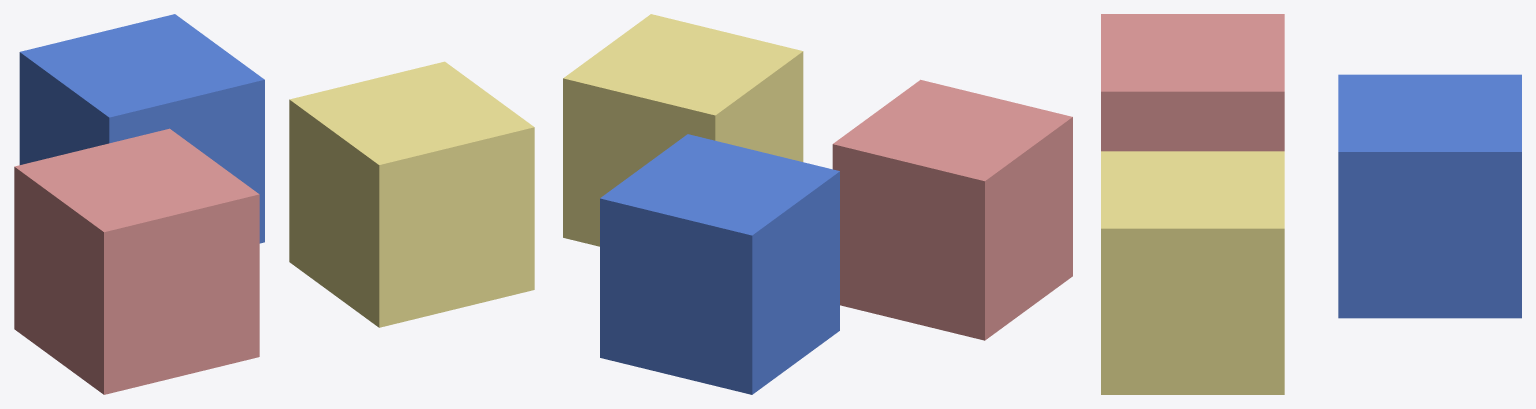
The model's file is wool.gltf.
3 views of the same model, side by side, from view 1: azimuth 30°, elevation 25°; view 2: azimuth 150°, elevation 25°; view 3: azimuth 270°, elevation 25° (orthographic). The views are drawn at different scales.
Visible parts, largest first — view 1: Box (×3); view 2: Box (×3); view 3: Box (×3).
Part boxes in pixels (bbox=[...]): Box (×3): bbox=[14, 14, 534, 394]; Box (×3): bbox=[563, 14, 1072, 394]; Box (×3): bbox=[1101, 14, 1521, 394].
Size of the model in its own units: 2.77 by 1 by 2.29.
